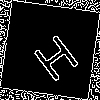H: (25, 25, 82, 84)
